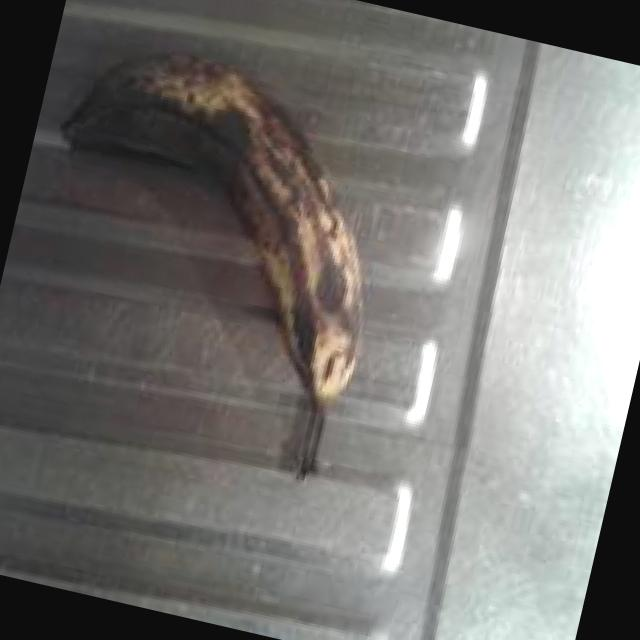Rotten_Banana: (65, 0, 400, 423)
